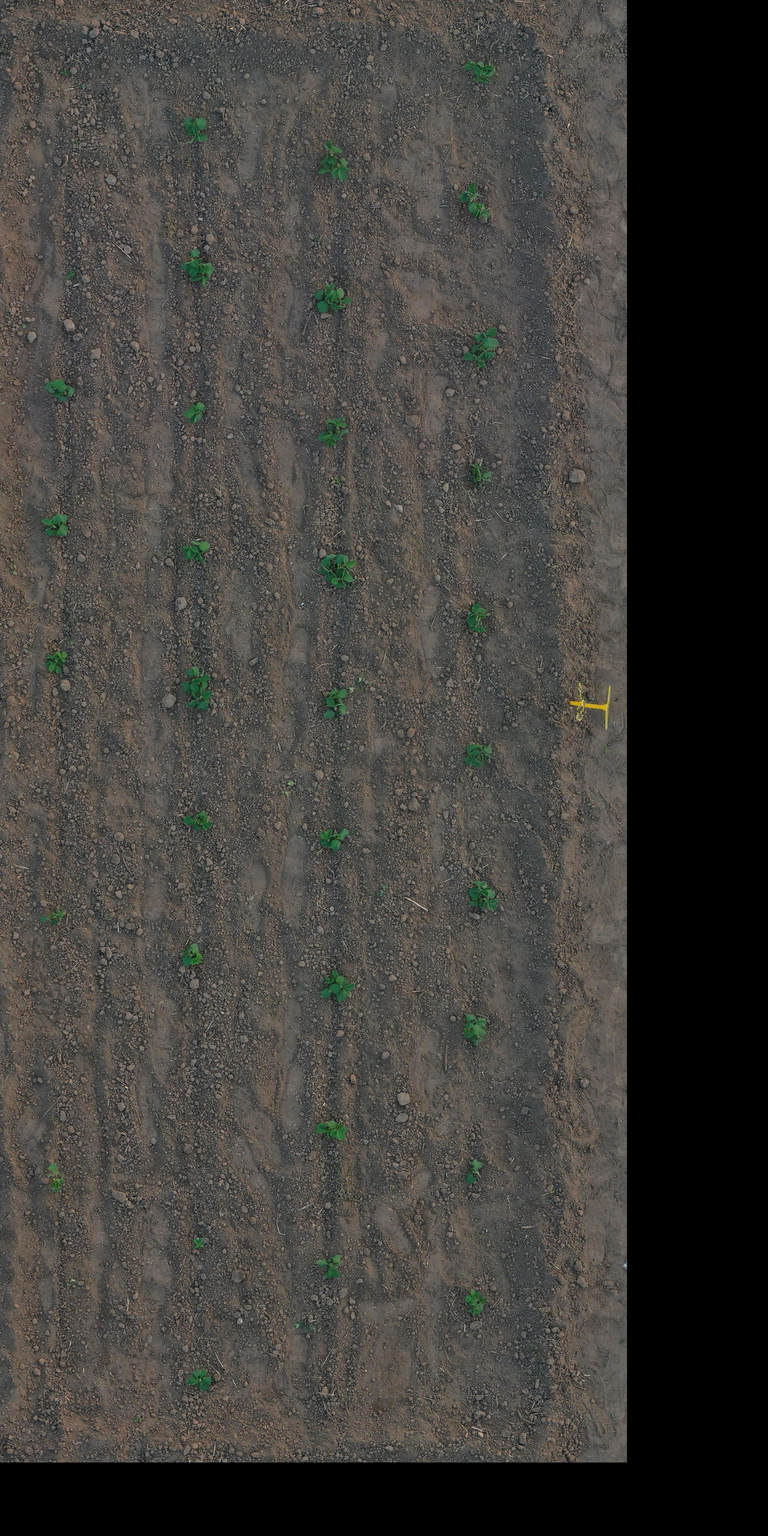s: (316, 290, 346, 313), (186, 686, 213, 711), (183, 540, 210, 564), (319, 139, 343, 165), (456, 181, 484, 203), (322, 696, 348, 719), (327, 156, 350, 181), (47, 1162, 65, 1193), (316, 557, 338, 582), (181, 668, 202, 694), (335, 975, 355, 1002), (190, 263, 212, 287), (463, 346, 487, 368), (335, 554, 357, 578), (39, 907, 66, 926), (183, 402, 206, 424), (40, 514, 62, 537), (331, 568, 355, 589), (463, 744, 484, 768), (467, 200, 491, 220), (181, 248, 201, 272), (182, 116, 207, 135), (317, 430, 343, 448), (314, 1120, 336, 1141), (330, 828, 349, 852), (466, 602, 490, 620), (465, 1159, 482, 1184), (188, 262, 216, 277), (479, 890, 500, 910), (314, 283, 337, 301), (472, 343, 496, 360), (468, 880, 492, 897), (193, 811, 213, 831), (329, 1120, 348, 1141), (469, 471, 492, 488), (182, 943, 199, 966), (193, 669, 211, 690), (52, 386, 75, 402), (315, 1254, 343, 1267), (319, 829, 338, 848), (327, 687, 348, 704), (472, 66, 491, 84), (334, 287, 352, 306), (182, 540, 201, 558), (473, 744, 492, 762), (186, 1368, 202, 1389), (474, 328, 497, 342), (321, 983, 341, 999), (186, 130, 208, 144), (326, 416, 348, 430), (464, 1024, 486, 1038), (324, 1263, 342, 1279), (199, 1369, 212, 1391), (56, 513, 68, 536), (317, 161, 338, 174), (46, 651, 68, 663), (470, 461, 488, 475), (44, 660, 62, 674), (468, 1300, 484, 1315), (467, 621, 486, 633), (323, 970, 338, 985), (183, 813, 200, 826), (44, 378, 64, 389), (47, 382, 67, 393), (465, 1014, 487, 1024), (476, 61, 494, 73), (474, 1291, 488, 1305), (470, 1034, 486, 1046), (462, 59, 476, 71), (465, 1288, 476, 1303), (190, 953, 203, 965), (334, 428, 349, 438), (469, 896, 482, 907), (192, 1238, 204, 1249)
